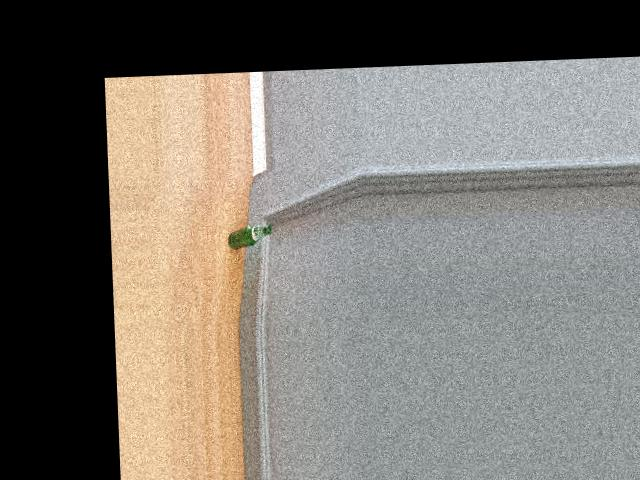beer: (227, 224, 271, 248)
